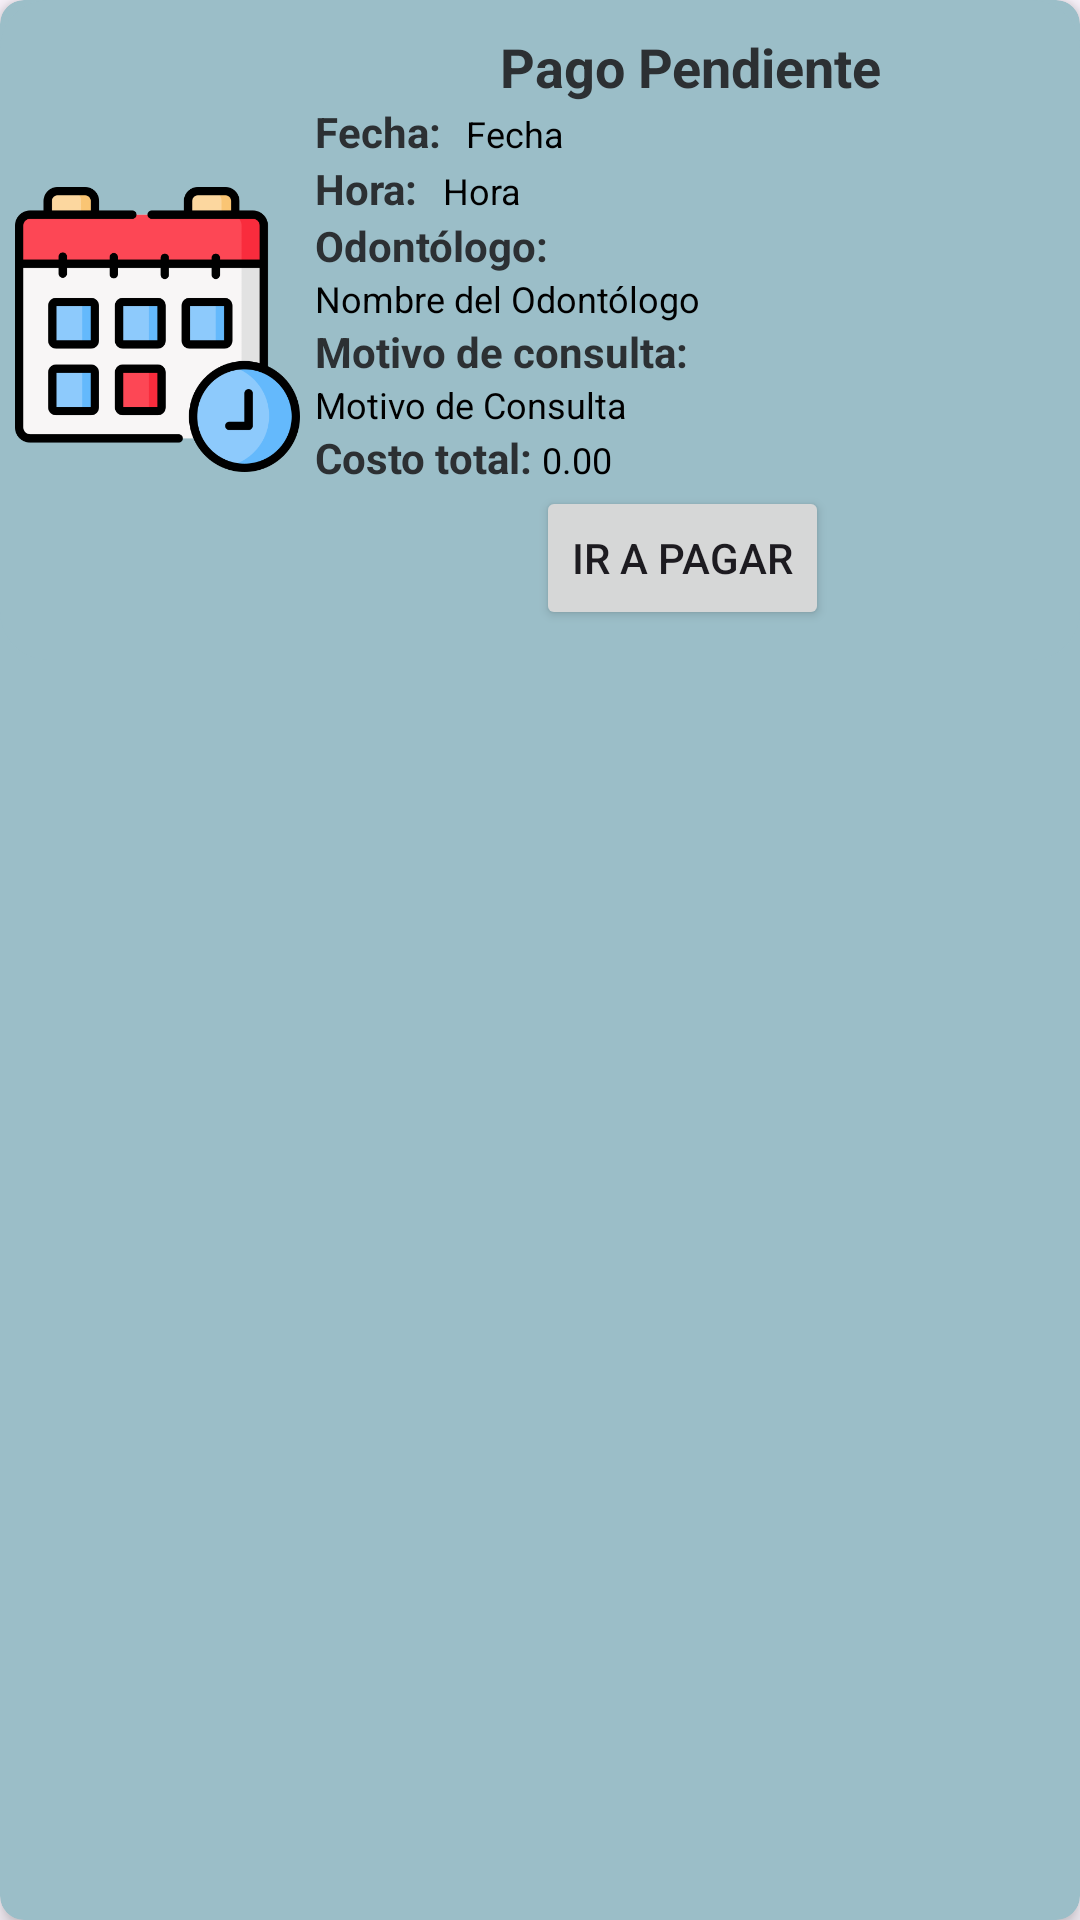

Locate icon controls on the screen. Image size 1080 x 1920, boxes as (x1=x1, y1=y1, x2=x2, y2=y2).
cita programada: (x1=15, y1=187, x2=300, y2=472)
